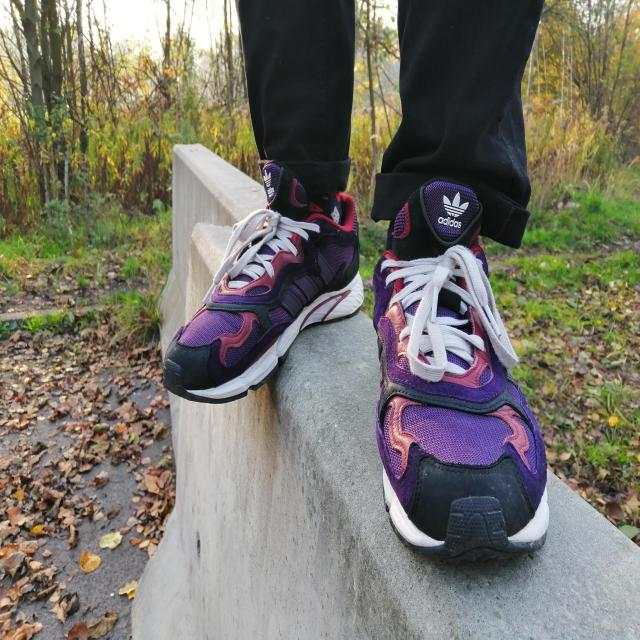shoe: (370, 178, 553, 558), (162, 161, 366, 411)
